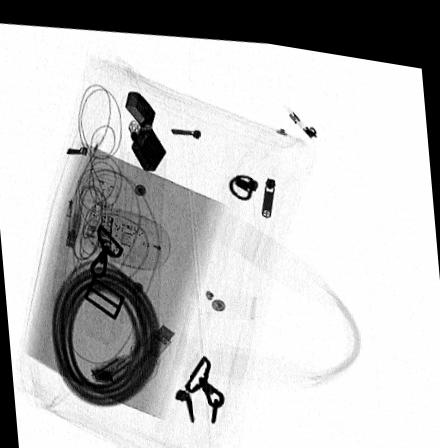Lighter: (124, 86, 166, 166)
